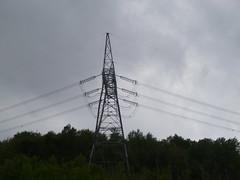power_tower: (73, 30, 139, 167)
